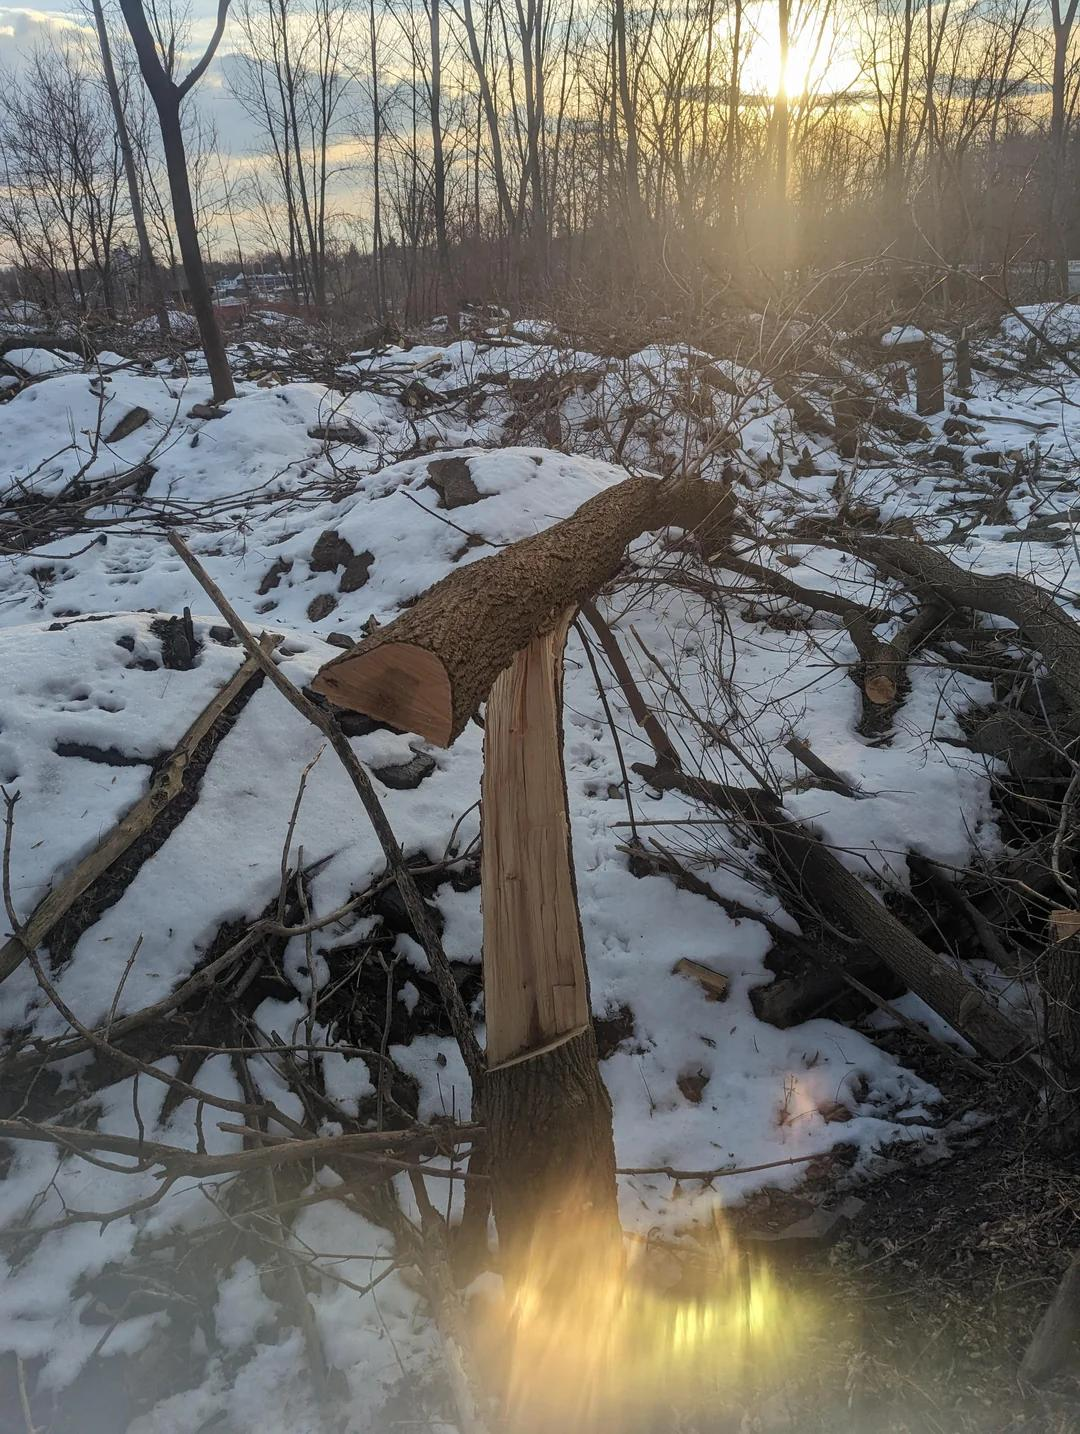mechanical damage: (481, 608, 588, 1069)
